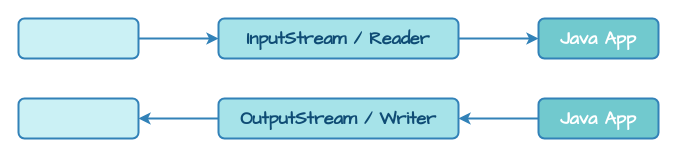
The diagram is 676 pixels wide and 156 high, and some of its shapes have lost their labels. Here are the shapes that lost their labels. From the top down, the centre of each, then its label:
At point 78,38: "Source".
At point 78,118: "Target".
